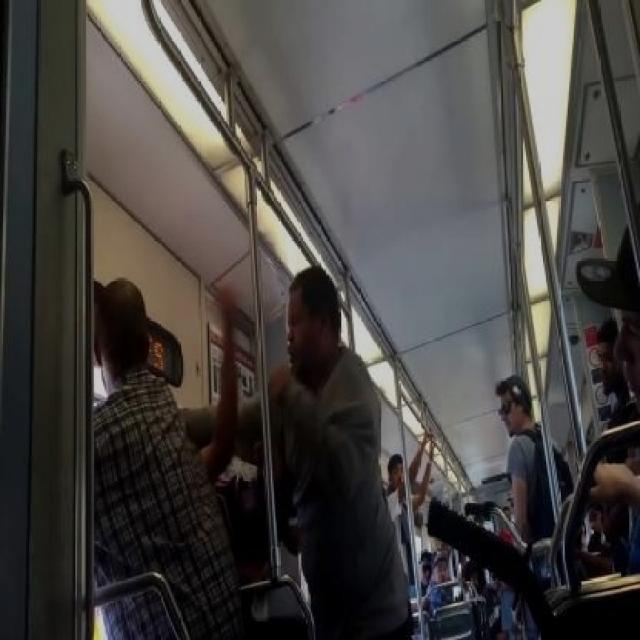fight: (84, 256, 417, 638)
non-fight: (483, 370, 580, 638)
